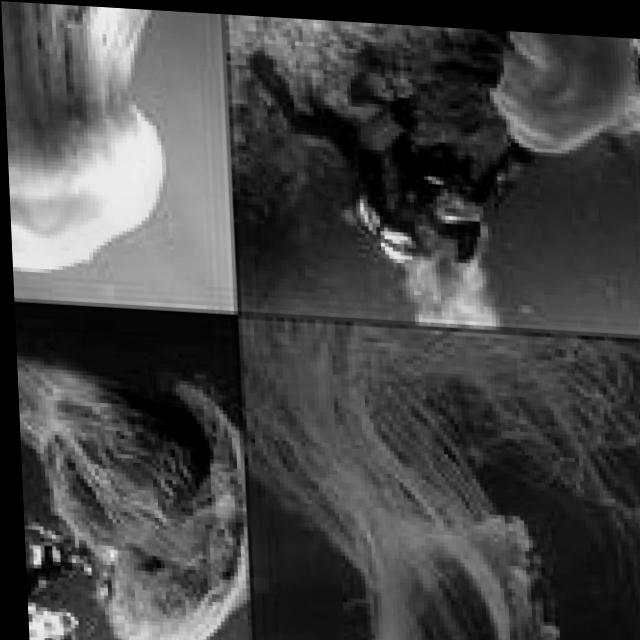Jellyfish: (0, 0, 239, 320), (11, 320, 246, 640), (401, 19, 640, 165)
